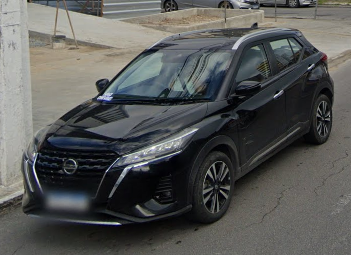car: (23, 29, 336, 225)
